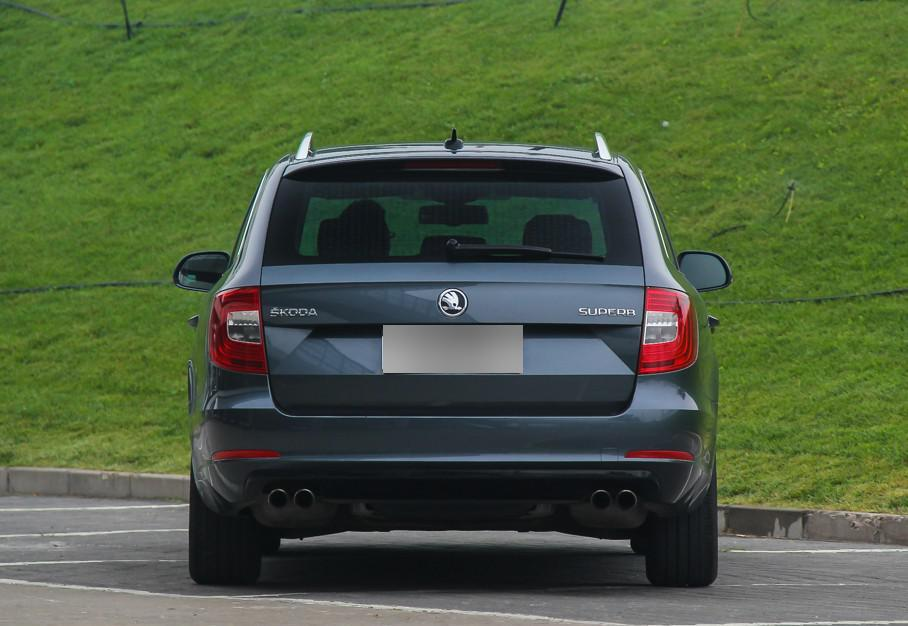Wagon: (171, 129, 732, 586)
